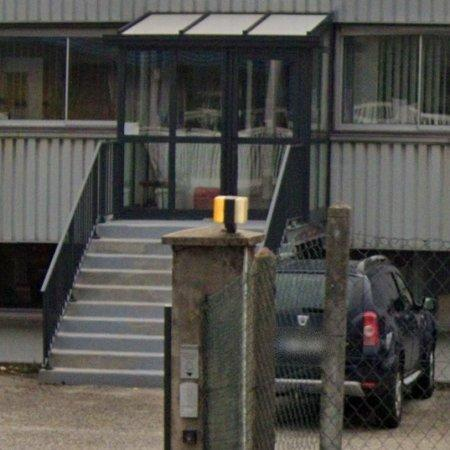stairs: (39, 221, 202, 387)
